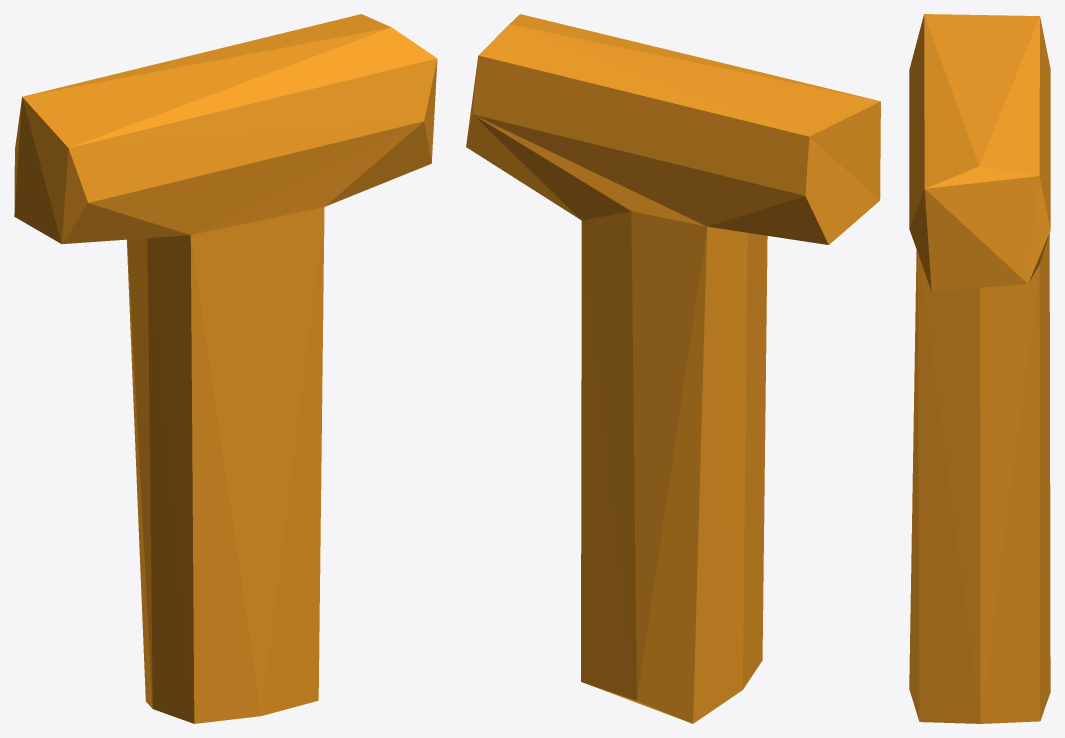
File: SM_Icon_Letter_T_01.fbx
The picture shows the model from 3 angles, left to right: view 1: azimuth 30°, elevation 25°; view 2: azimuth 150°, elevation 25°; view 3: azimuth 270°, elevation 25°; orthographic projection. The views are drawn at different scales.
Parts seen in each view (by area): view 1: SM_Icon_Letter_T_01; view 2: SM_Icon_Letter_T_01; view 3: SM_Icon_Letter_T_01.
Part boxes in pixels (left/top/right/bottom): SM_Icon_Letter_T_01: left=14, top=14, right=437, bottom=723; SM_Icon_Letter_T_01: left=466, top=14, right=880, bottom=723; SM_Icon_Letter_T_01: left=909, top=14, right=1050, bottom=723.
Bounding box in the file's own units: 33.73 × 55.33 × 11.43.
